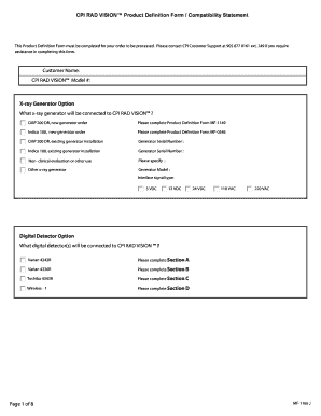checkbox: (17, 164, 28, 176), (135, 184, 148, 194), (17, 156, 29, 166), (17, 264, 28, 274), (183, 183, 192, 195), (17, 254, 27, 264), (19, 127, 28, 138), (211, 183, 220, 193), (17, 275, 28, 283), (19, 117, 28, 126), (162, 184, 168, 196), (247, 186, 255, 195), (18, 286, 28, 293), (19, 148, 27, 155), (18, 139, 27, 145)
